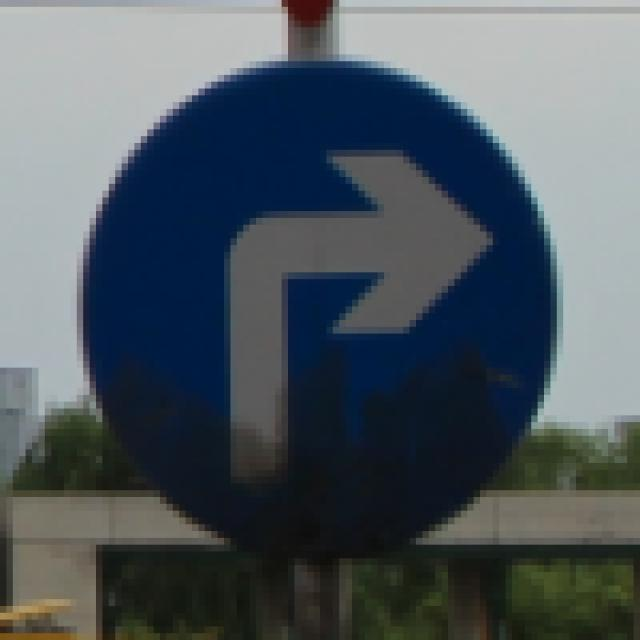Right: (80, 62, 569, 564)
